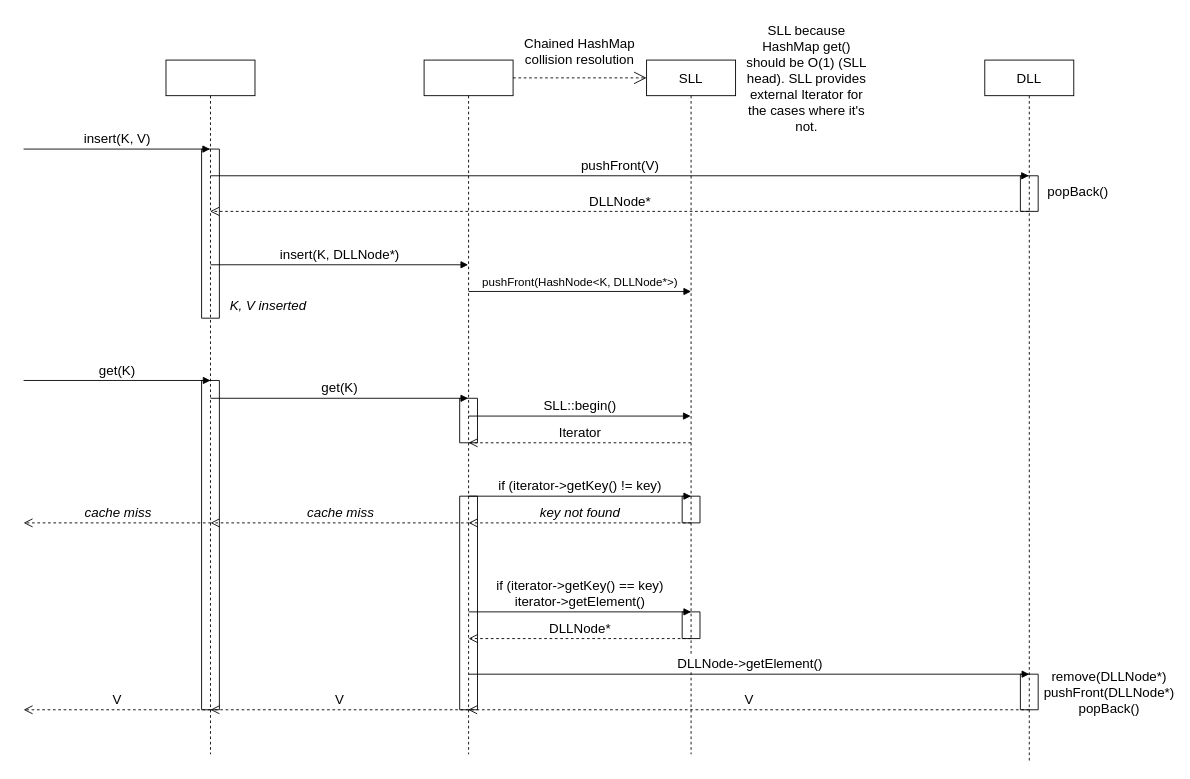
This 1190x779 diagram has some shape labels left out. Each missing label, with the centre of its shape:
"CacheManager" goes at pixel 210 406.
"HashMap" goes at pixel 468 406.
